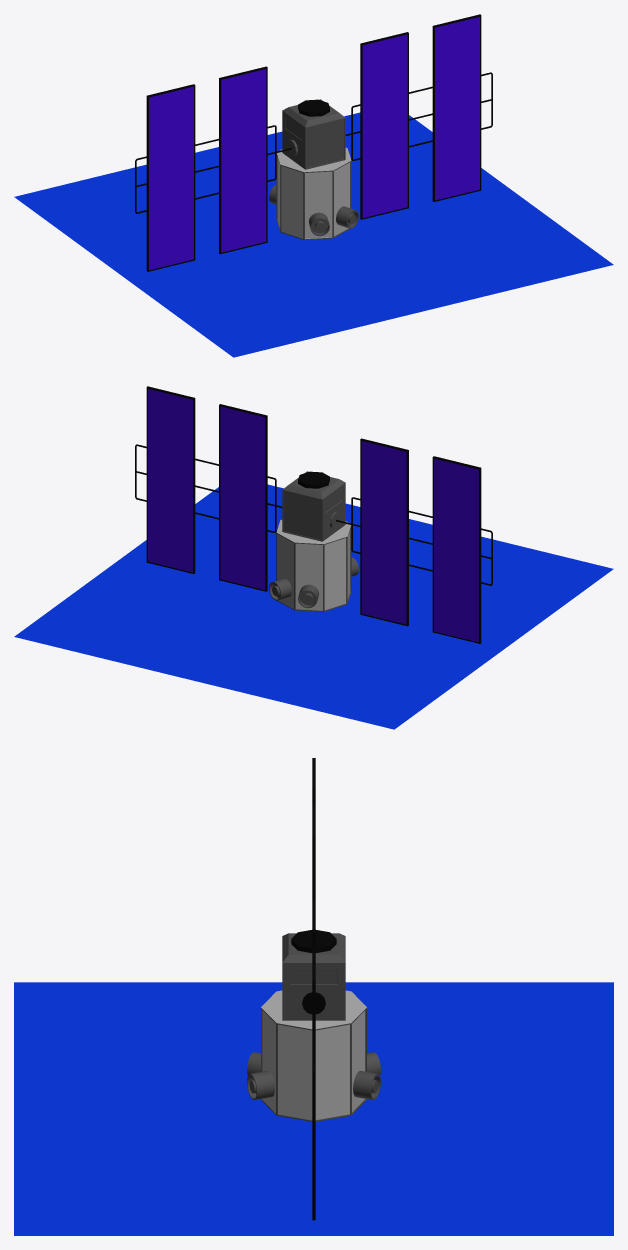
The model's file is satellite1_blue.fbx.
The picture shows the model from 3 angles, top to bottom: view 1: azimuth 30°, elevation 25°; view 2: azimuth 150°, elevation 25°; view 3: azimuth 270°, elevation 25°; orthographic projection. The views are drawn at different scales.
Parts seen in each view (by area): view 1: ght_ght, pCube7, pCube6, pCube4, pCube8, pCylinder5, pCube3, pCylinder3; view 2: ght_ght, pCube7, pCube6, pCube4, pCube8, pCylinder5, pCube3, pCylinder3; view 3: ght_ght, pCylinder5, pCube3, pCube7, pCylinder3, pCylinder8, pCylinder12.
Part boxes in pixels (x1=…): ght_ght: x1=14, y1=112, x2=613, y2=357; pCube7: x1=432, y1=14, x2=481, y2=201; pCube6: x1=146, y1=84, x2=195, y2=271; pCube4: x1=219, y1=66, x2=267, y2=254; pCube8: x1=360, y1=32, x2=408, y2=219; pCylinder5: x1=276, y1=147, x2=351, y2=239; pCube3: x1=282, y1=99, x2=345, y2=169; pCylinder3: x1=298, y1=99, x2=329, y2=116; ght_ght: x1=14, y1=484, x2=613, y2=729; pCube7: x1=146, y1=386, x2=195, y2=573; pCube6: x1=432, y1=456, x2=481, y2=643; pCube4: x1=360, y1=438, x2=408, y2=626; pCube8: x1=219, y1=404, x2=267, y2=591; pCylinder5: x1=276, y1=519, x2=351, y2=611; pCube3: x1=282, y1=471, x2=345, y2=541; pCylinder3: x1=298, y1=471, x2=329, y2=488; ght_ght: x1=14, y1=982, x2=613, y2=1235; pCylinder5: x1=261, y1=990, x2=366, y2=1121; pCube3: x1=282, y1=933, x2=345, y2=1020; pCube7: x1=312, y1=949, x2=315, y2=1220; pCylinder3: x1=291, y1=930, x2=336, y2=952; pCylinder8: x1=247, y1=1070, x2=274, y2=1100; pCylinder12: x1=353, y1=1070, x2=380, y2=1100.
Size of the model in its own units: 8 by 3.53 by 8.
